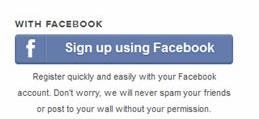button: (13, 33, 233, 65)
